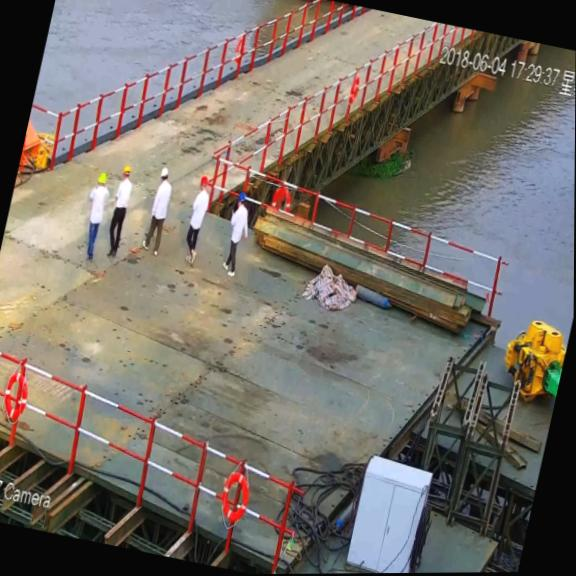no_safety_vest: (224, 201, 252, 249), (184, 187, 210, 238), (148, 180, 176, 224), (85, 186, 112, 230), (113, 177, 135, 215)
